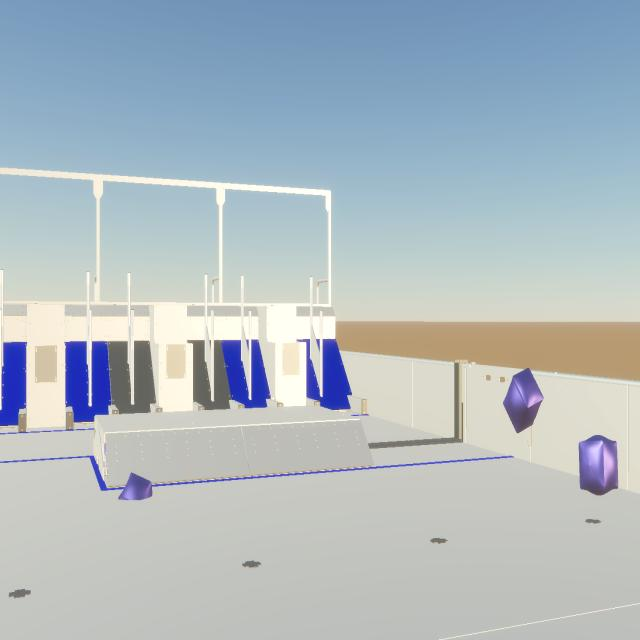frc_cube: (503, 368, 544, 433), (579, 435, 618, 495), (119, 472, 152, 500), (104, 444, 106, 454)
